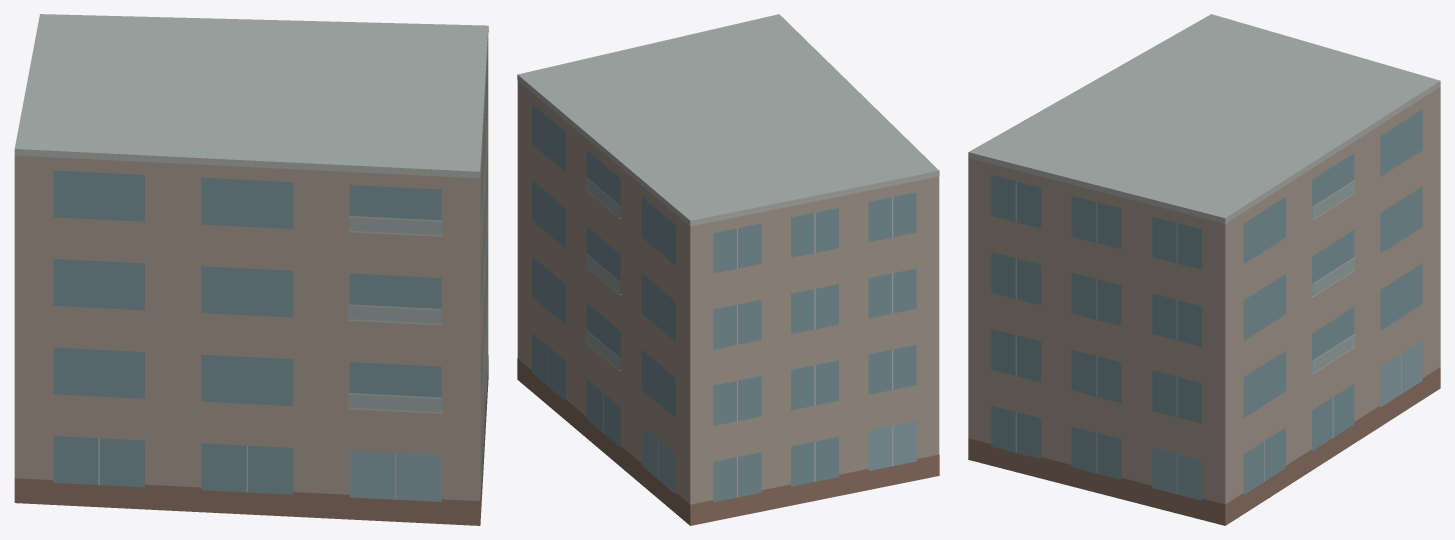
File: survey-upis-32585320.glb
3 renders of one model, left to right at view 1: azimuth 30°, elevation 25°; view 2: azimuth 150°, elevation 25°; view 3: azimuth 270°, elevation 25°, orthographic. The views are drawn at different scales.
Parts seen in each view (by area): view 1: survey-upis-32585320.tmp; view 2: survey-upis-32585320.tmp; view 3: survey-upis-32585320.tmp.
Part boxes in pixels (x1,y1,x2,y2): survey-upis-32585320.tmp: [14, 14, 488, 525]; survey-upis-32585320.tmp: [517, 14, 939, 525]; survey-upis-32585320.tmp: [968, 14, 1440, 525].
Bounding box in the file's own units: 18.52 × 13 × 18.09.
